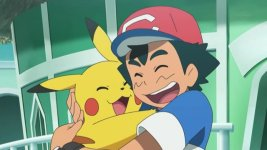pikachu: (28, 17, 160, 145)
